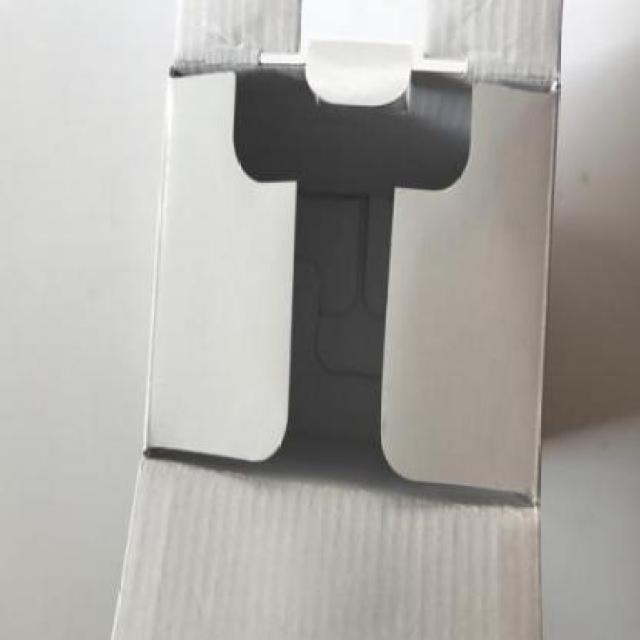box: (99, 1, 572, 640)
